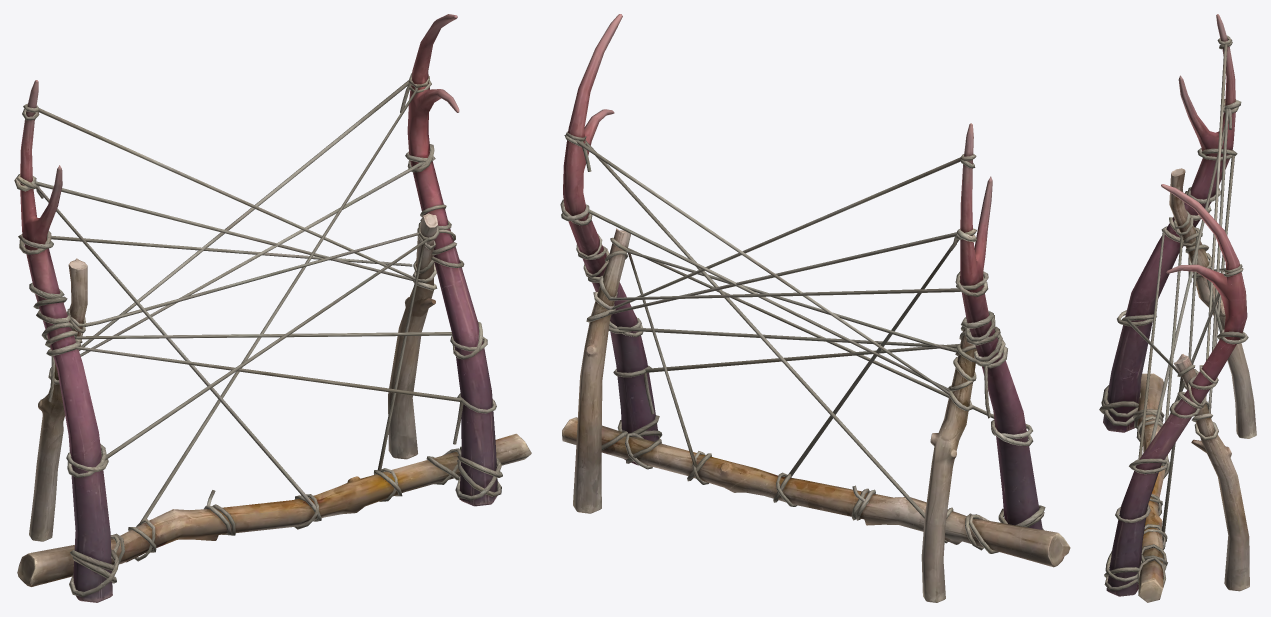
3 renders of one model, left to right at view 1: azimuth 30°, elevation 25°; view 2: azimuth 150°, elevation 25°; view 3: azimuth 270°, elevation 25°, orthographic. The views are drawn at different scales.
Visible parts, largest first — view 1: SM_Tanning_Rack_01v2_LOD0; view 2: SM_Tanning_Rack_01v2_LOD0; view 3: SM_Tanning_Rack_01v2_LOD0.
Boxes of the visible parts, <box> form: SM_Tanning_Rack_01v2_LOD0: <box>14,14,531,602</box>; SM_Tanning_Rack_01v2_LOD0: <box>560,14,1070,602</box>; SM_Tanning_Rack_01v2_LOD0: <box>1099,14,1256,602</box>.
Size of the model in its own units: 1.75 by 1.57 by 0.5455.
Materials: 1 (1 with a texture image).
